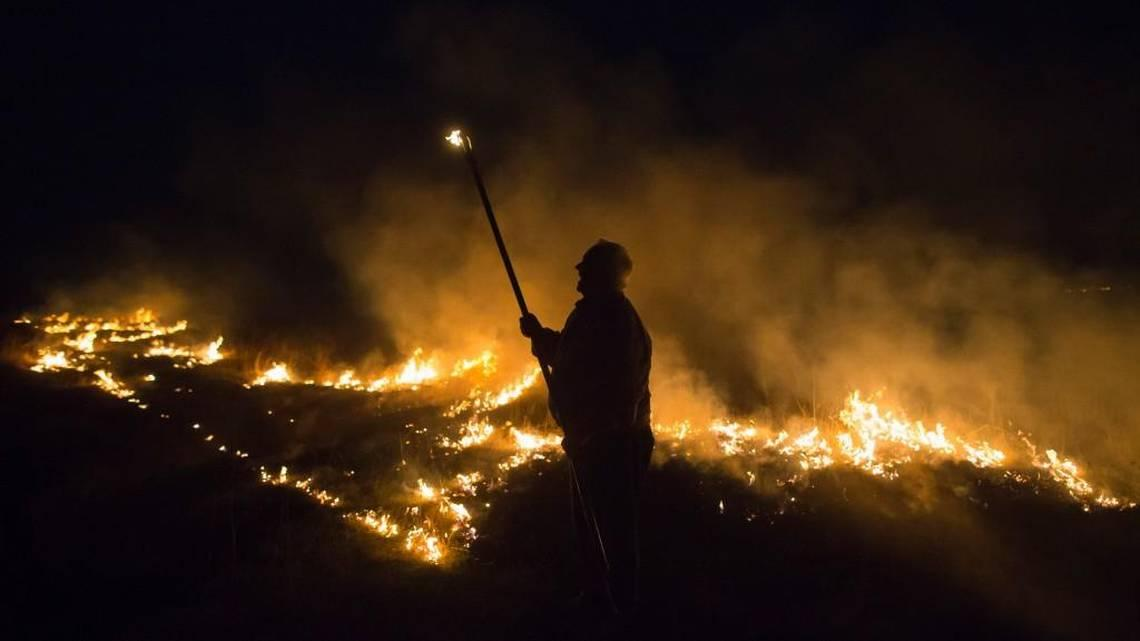Fire: (13, 308, 227, 410), (836, 388, 1008, 485), (249, 341, 499, 392), (409, 472, 481, 562), (1037, 445, 1127, 513), (259, 466, 342, 508), (504, 424, 564, 472), (770, 429, 833, 472), (474, 373, 542, 412), (712, 416, 759, 458), (444, 417, 495, 454), (354, 511, 402, 538), (653, 411, 692, 444), (445, 128, 475, 151)
